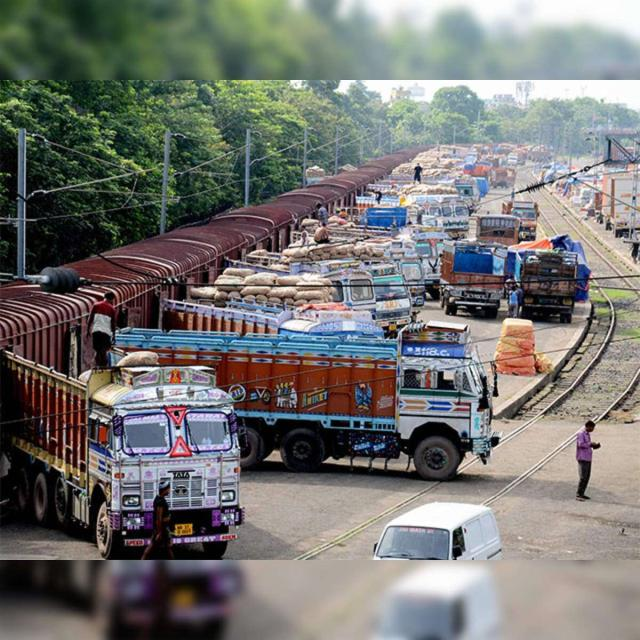truck: (116, 321, 498, 480), (1, 351, 244, 559), (240, 242, 376, 314), (352, 242, 412, 336)
